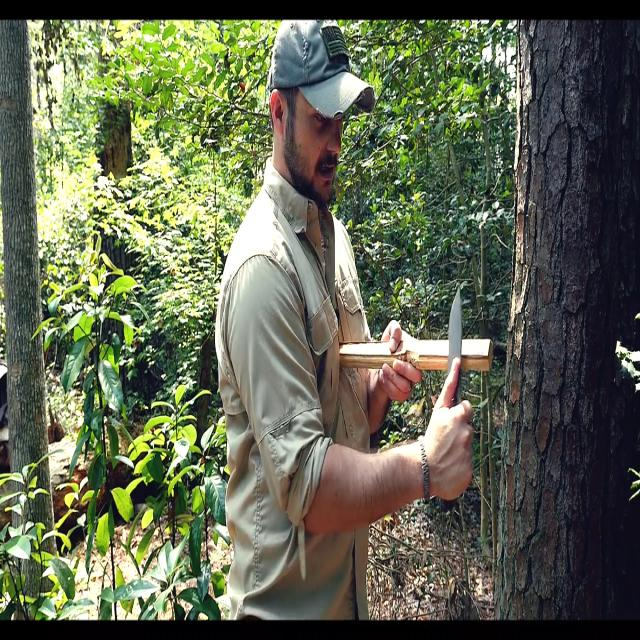knife: (445, 285, 469, 393)
